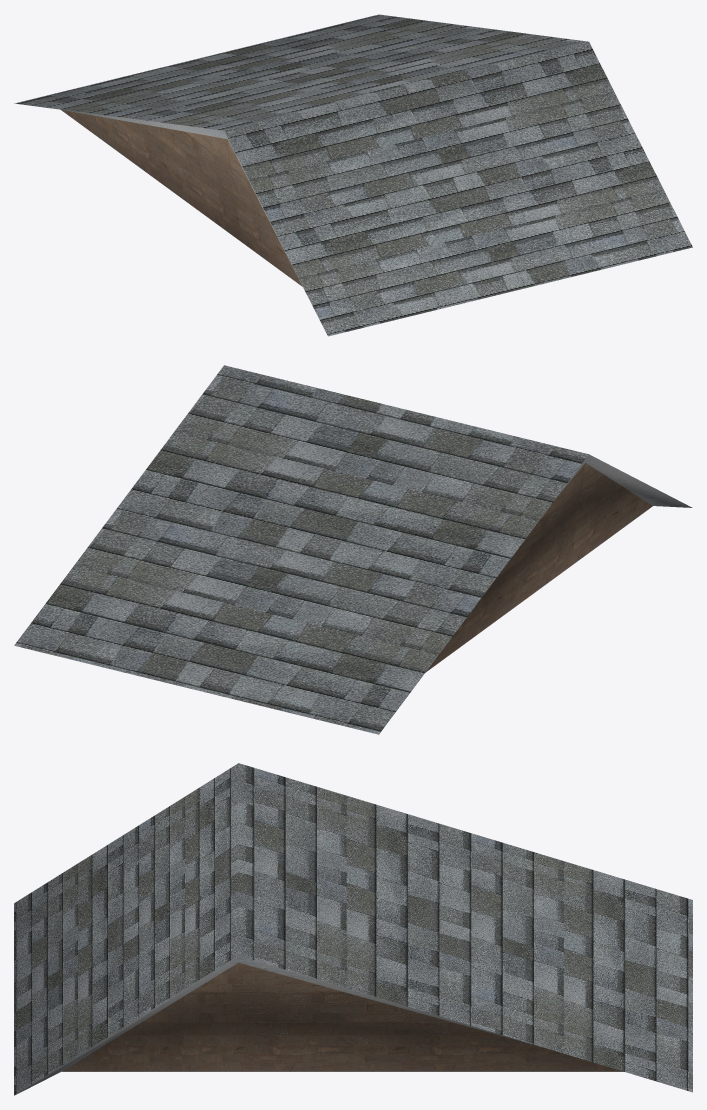
Rendered from witchHutLibrary.fbx.
3 views of the same model, one above another, from view 1: azimuth 30°, elevation 25°; view 2: azimuth 150°, elevation 25°; view 3: azimuth 270°, elevation 25° (orthographic). The views are drawn at different scales.
Parts seen in each view (by area): view 1: libraryRoof; view 2: libraryRoof; view 3: libraryRoof.
Part boxes in pixels (left/top/right/bottom): libraryRoof: left=14, top=14, right=692, bottom=336; libraryRoof: left=14, top=365, right=692, bottom=734; libraryRoof: left=14, top=763, right=692, bottom=1095.
Bounding box in the file's own units: 36.54 × 12.41 × 54.45.
4 materials, 3 textured.
